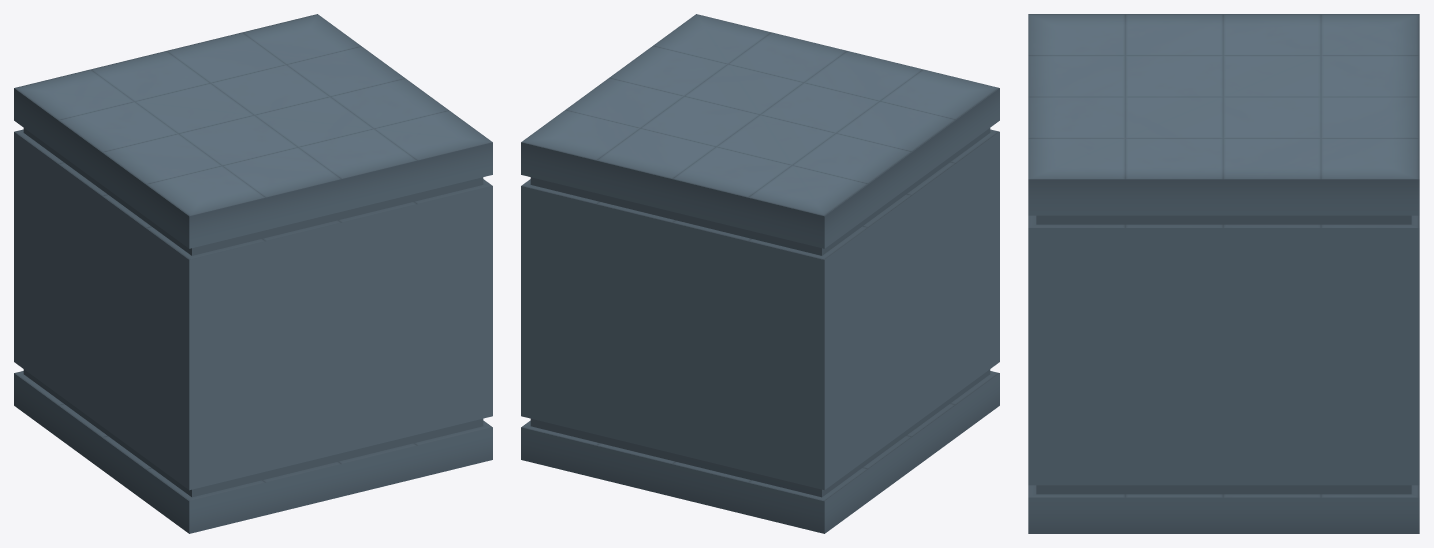
The picture shows the model from 3 angles, left to right: view 1: azimuth 30°, elevation 25°; view 2: azimuth 150°, elevation 25°; view 3: azimuth 270°, elevation 25°; orthographic projection. The views are drawn at different scales.
Visible parts, largest first — view 1: Platform; view 2: Platform; view 3: Platform.
Boxes of the visible parts, x1,y1,x2,y2 form: Platform: [14, 14, 492, 533]; Platform: [521, 14, 999, 533]; Platform: [1028, 14, 1419, 533].
Size of the model in its own units: 1 by 1 by 1.
Materials: 2 (2 with a texture image).
